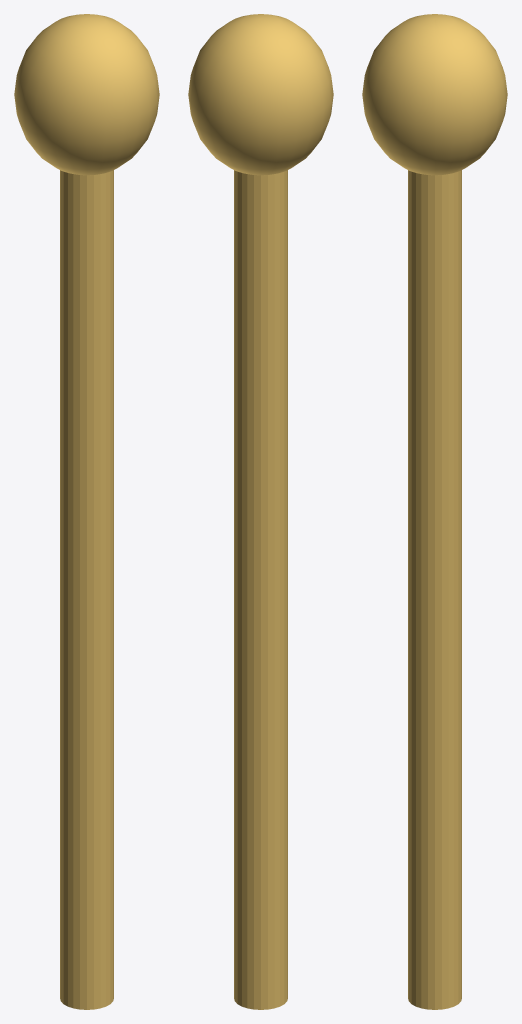
File: cetro.glb
3 renders of one model, left to right at view 1: azimuth 30°, elevation 25°; view 2: azimuth 150°, elevation 25°; view 3: azimuth 270°, elevation 25°, orthographic.
Visible parts, largest first — view 1: Haste, Extremidade ornamental; view 2: Haste, Extremidade ornamental; view 3: Haste, Extremidade ornamental.
Boxes of the visible parts, left/top/right/bottom form: Haste: left=60, top=170, right=113, bottom=1009; Extremidade ornamental: left=14, top=14, right=159, bottom=175; Haste: left=234, top=170, right=287, bottom=1009; Extremidade ornamental: left=188, top=14, right=333, bottom=175; Haste: left=408, top=170, right=461, bottom=1009; Extremidade ornamental: left=362, top=14, right=507, bottom=175.
Size of the model in its own units: 0.35 by 2.6 by 0.35.
